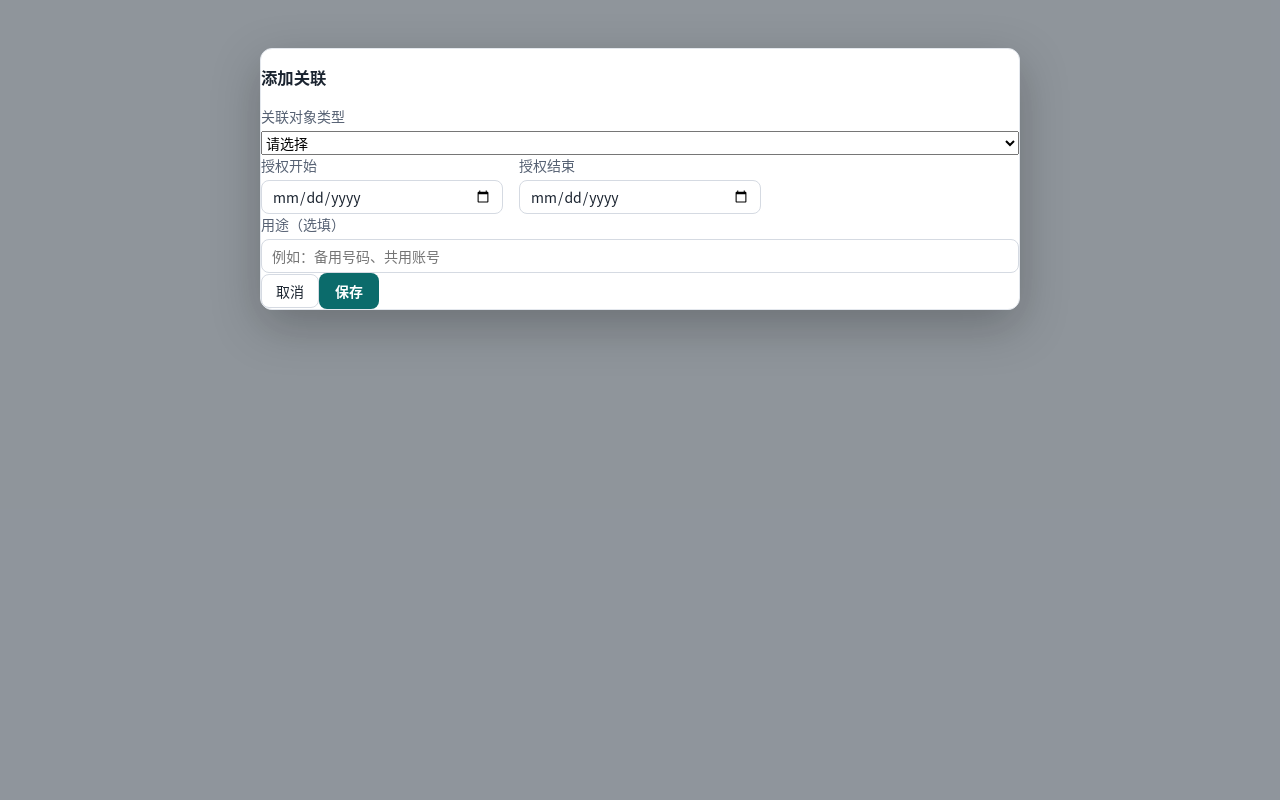
Scenario: 关联属性对话框 › 添加：没选对象不能保存
The image size is (1280, 800).
Click the button "保存" at x=349, y=291, box [319, 273, 379, 309]
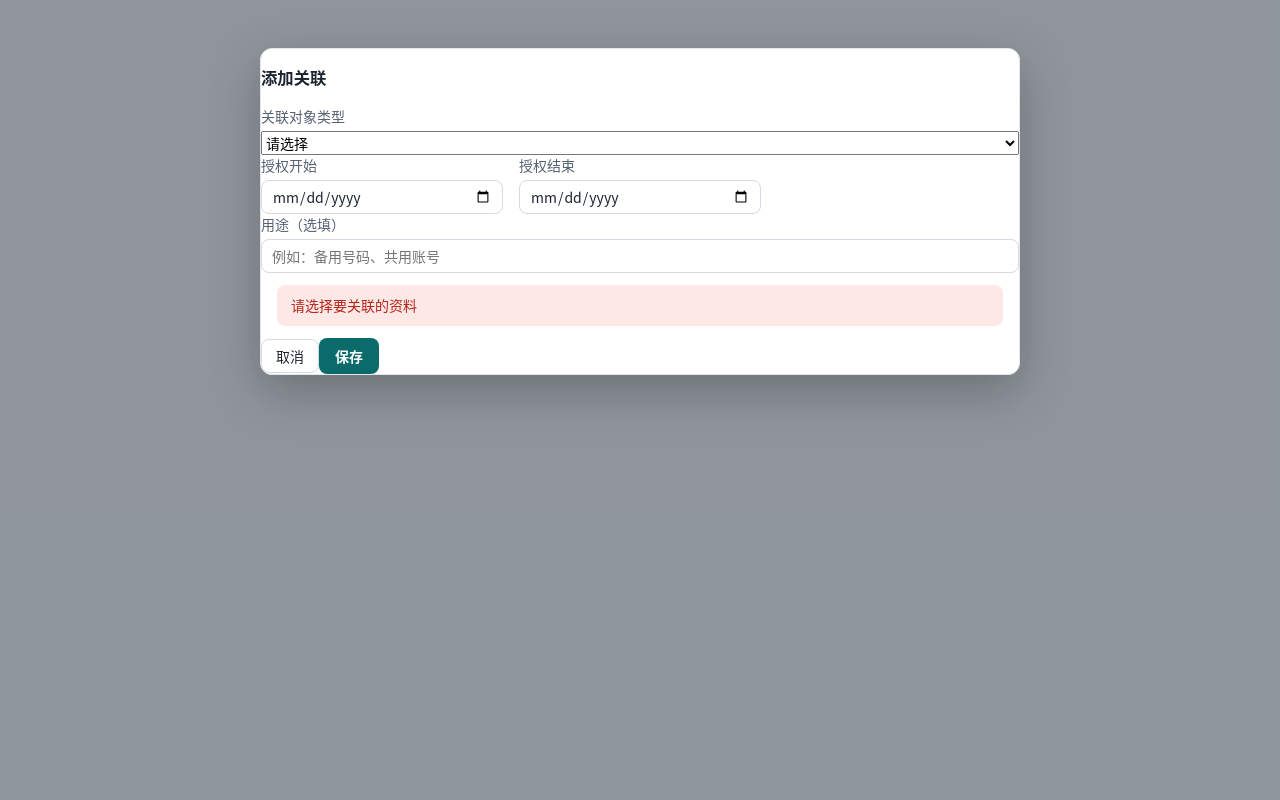
Now the text "请选择要关联的资料" is shown, box [277, 285, 1003, 326]
